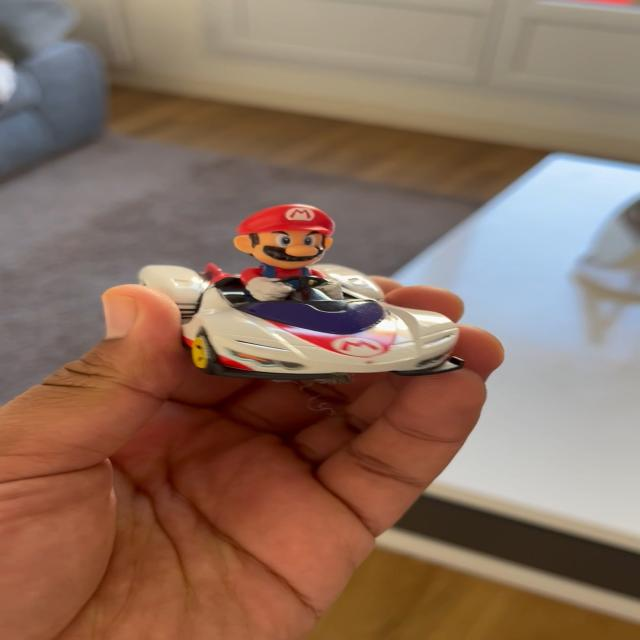mario: (123, 198, 477, 386)
